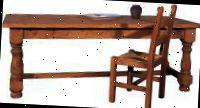Mesa: (0, 6, 199, 107)
Silla: (107, 1, 180, 107)
